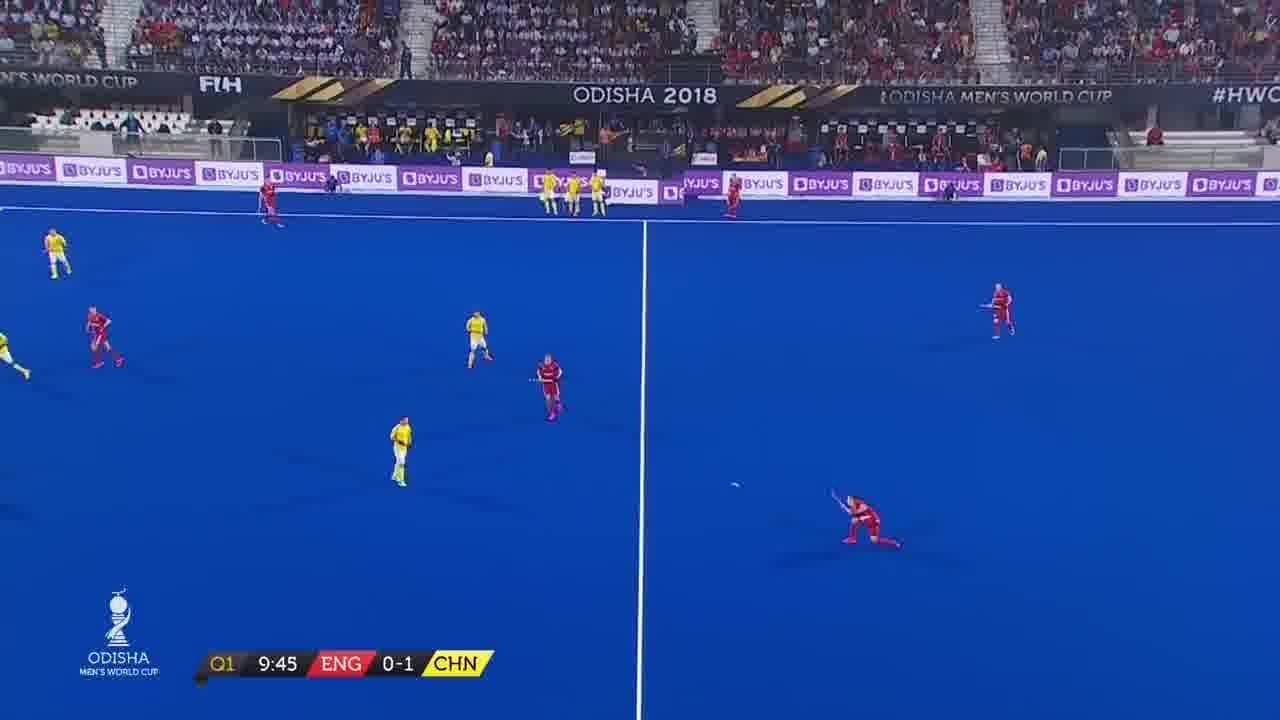ball: (722, 472, 752, 494)
